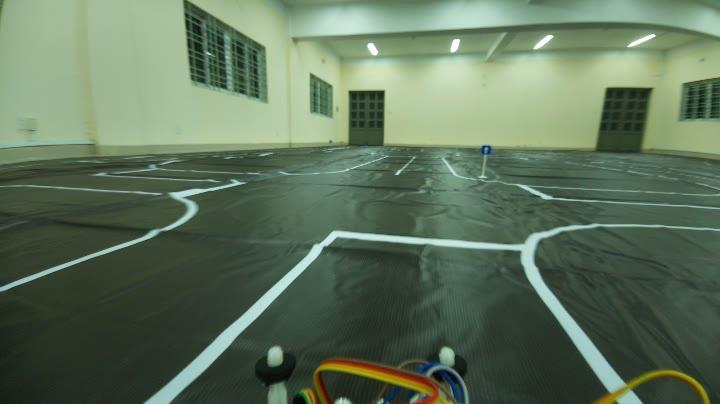onewayroad: (477, 140, 492, 156)
